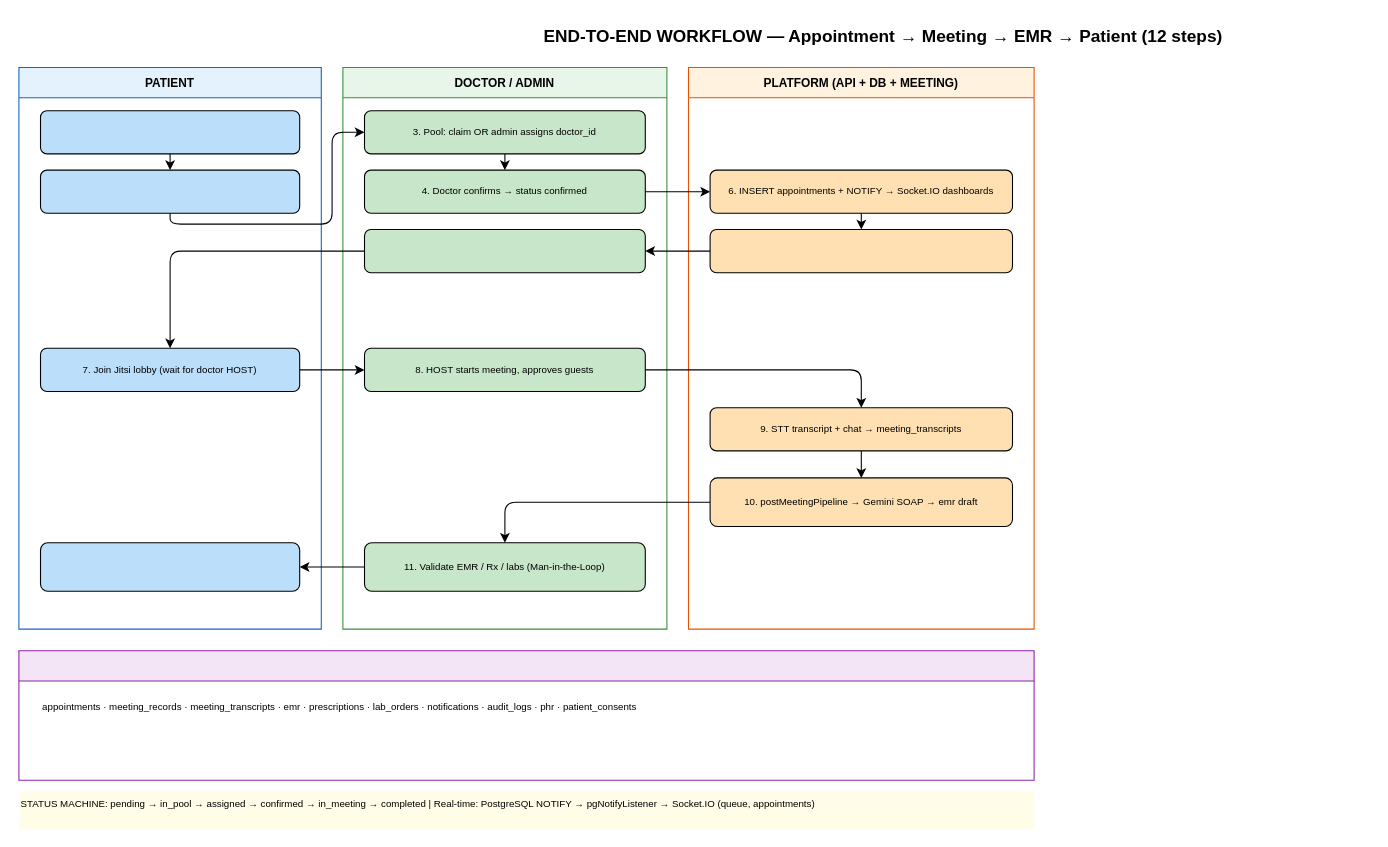
This 1388x847 diagram has some shape labels left out. The box of each missing label's shape, as (x1, y1, x2, y2) in pixels:
1. Login / Register (PDPA consent): (39, 110, 300, 154)
12. View timeline, PHR, instruction sheet (after doctor validates): (39, 542, 300, 591)
2. Book appointment (date, symptoms, type): (39, 169, 300, 213)
5. Pre-consult AI summary (Gemini + PHR/EMR): (363, 228, 645, 273)
6b. Meeting Server creates room + invite tokens: (709, 228, 1013, 273)
DATA STORED (PostgreSQL izara_phase1): (18, 650, 1034, 780)
